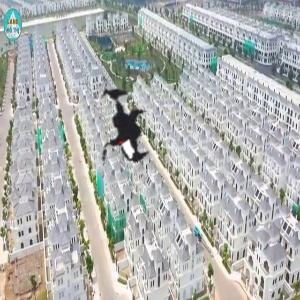drone: (54, 63, 183, 192)
